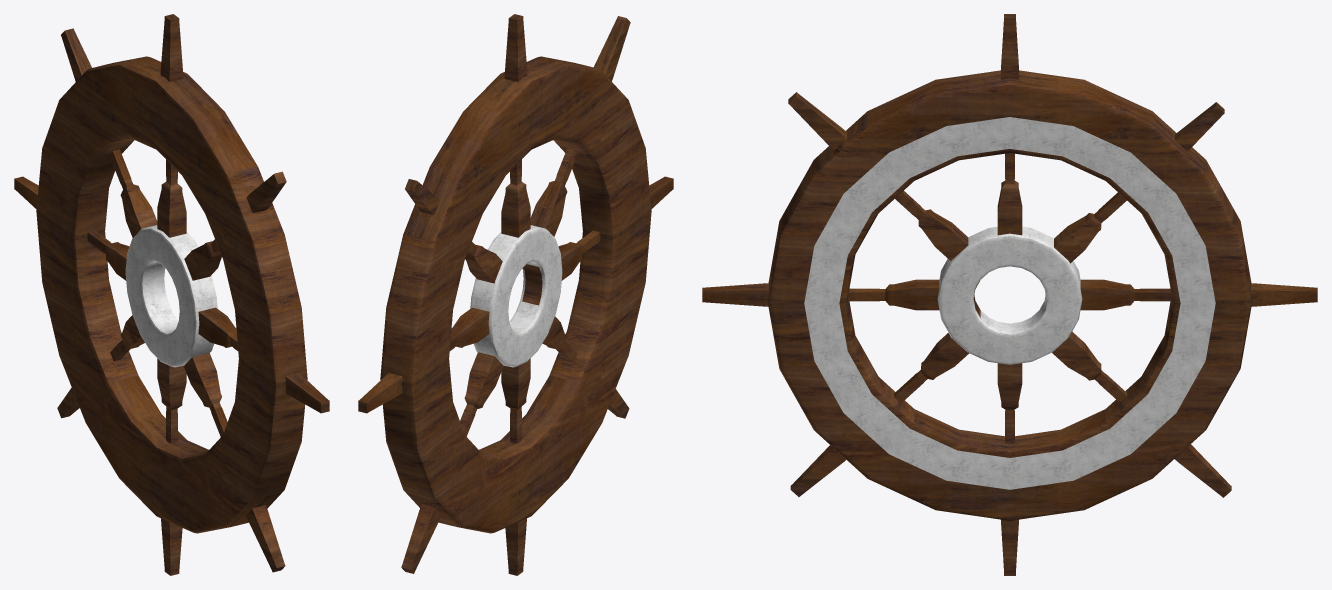
File: Wheel.glb
3 renders of one model, left to right at view 1: azimuth 30°, elevation 25°; view 2: azimuth 150°, elevation 25°; view 3: azimuth 270°, elevation 25°, orthographic.
Visible parts, largest first — view 1: wheel; view 2: wheel; view 3: wheel.
Boxes of the visible parts, box(x1,y1,x2,y2) form: wheel: box(14, 14, 329, 575); wheel: box(358, 14, 673, 575); wheel: box(702, 14, 1317, 575).
Size of the model in its own units: 0.0525 by 0.8089 by 0.8089.
Materials: 2 (2 with a texture image).
